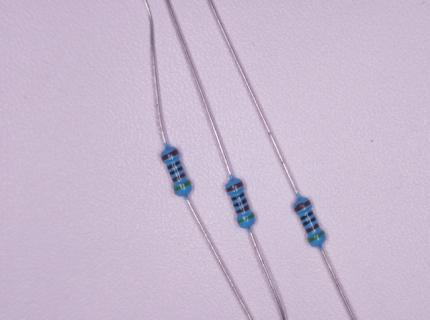Black band: (302, 216, 316, 226), (169, 166, 184, 175), (233, 198, 247, 207), (231, 192, 244, 201), (300, 211, 313, 220), (168, 160, 180, 169)
Brown band: (161, 149, 179, 161), (294, 200, 310, 212), (226, 181, 243, 192), (235, 204, 250, 214), (306, 223, 319, 234), (173, 173, 185, 182)
Green band: (308, 230, 324, 243), (174, 180, 191, 192), (237, 213, 254, 223)
